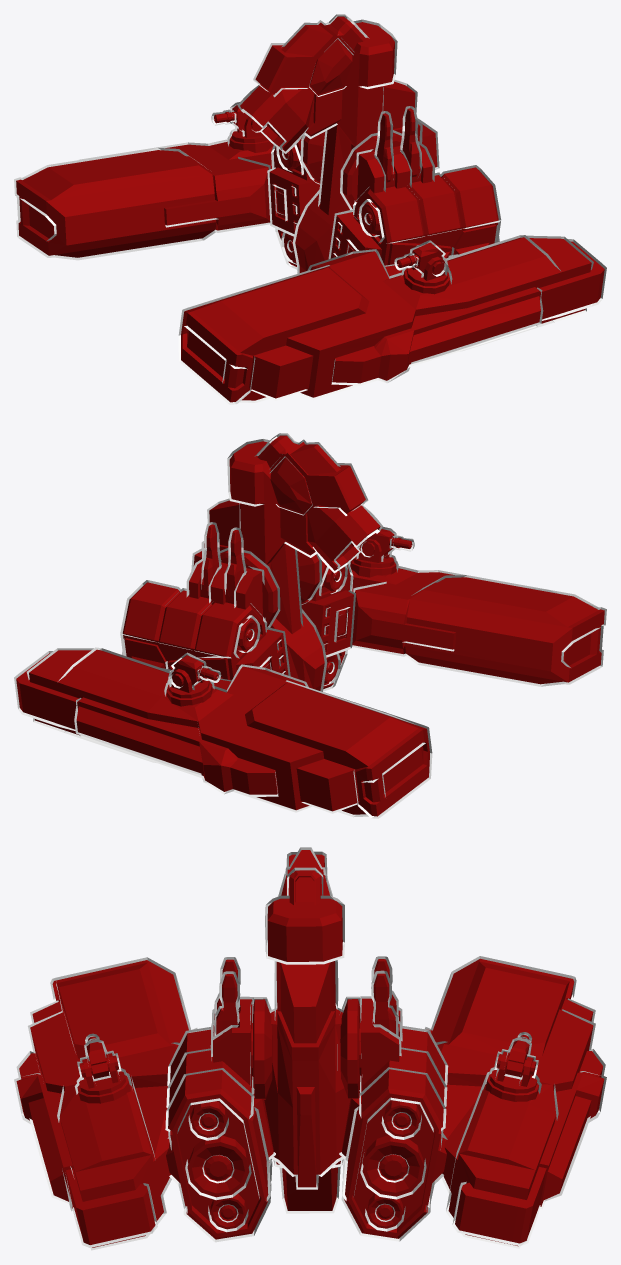
The model's file is ship4_red.glb.
3 views of the same model, one above another, from view 1: azimuth 30°, elevation 25°; view 2: azimuth 150°, elevation 25°; view 3: azimuth 270°, elevation 25° (orthographic). The views are drawn at different scales.
Parts seen in each view (by area): view 1: ME_ship_IndexedFaceSet; view 2: ME_ship_IndexedFaceSet; view 3: ME_ship_IndexedFaceSet.
Boxes of the visible parts, box(x1,y1,x2,y2) form: ME_ship_IndexedFaceSet: box(14, 14, 606, 404); ME_ship_IndexedFaceSet: box(14, 433, 606, 818); ME_ship_IndexedFaceSet: box(14, 847, 606, 1250).
Bounding box in the file's own units: 352 × 257 × 398.
